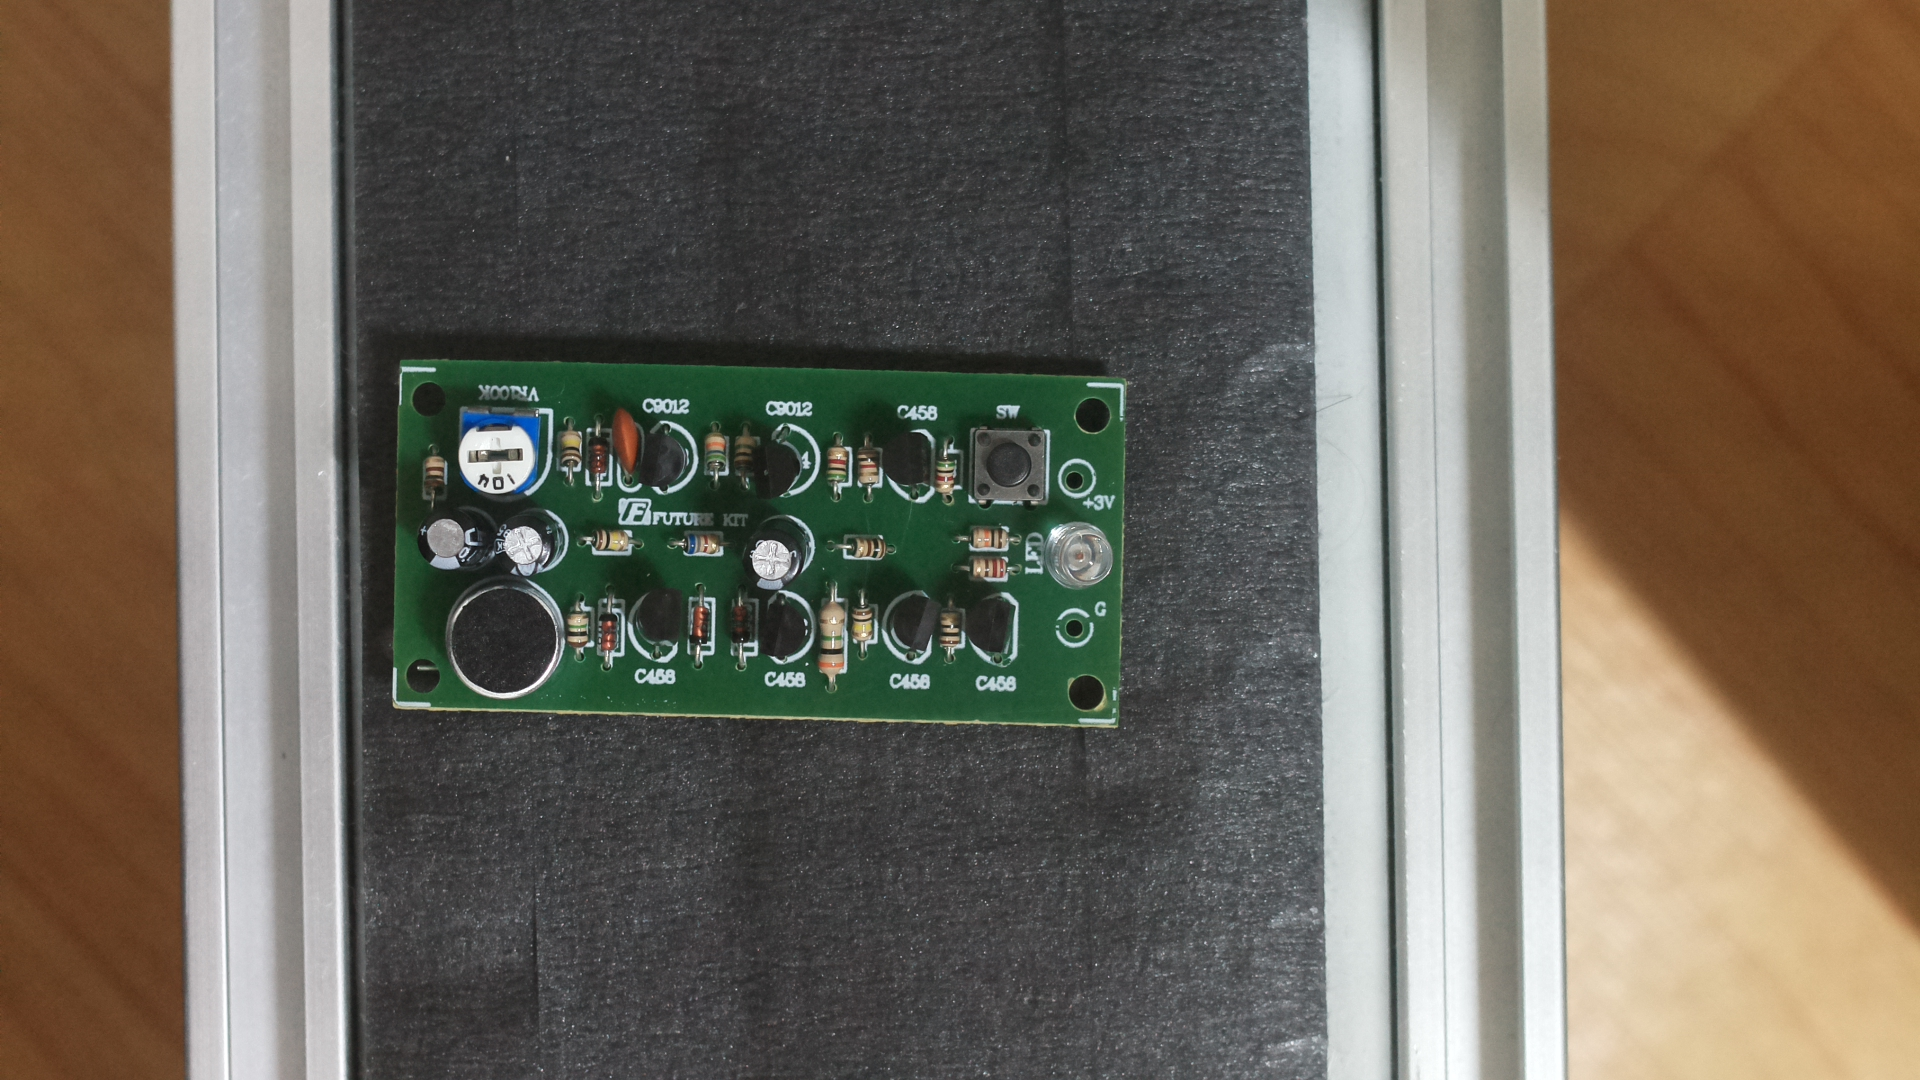A_Normal: (384, 345, 1142, 750)
